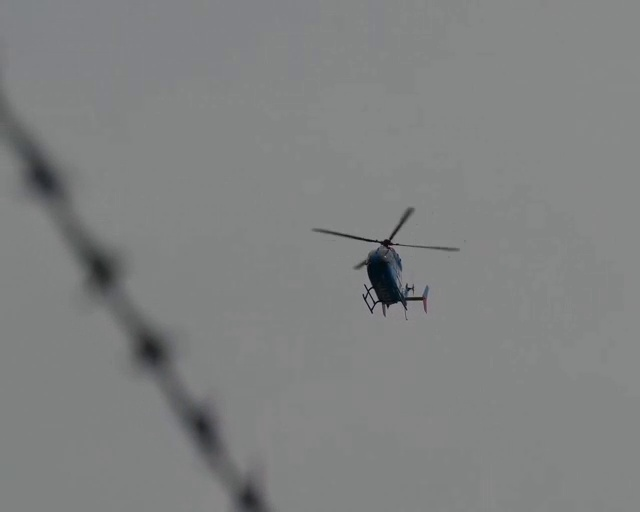HELICOPTER: (311, 205, 464, 321)
